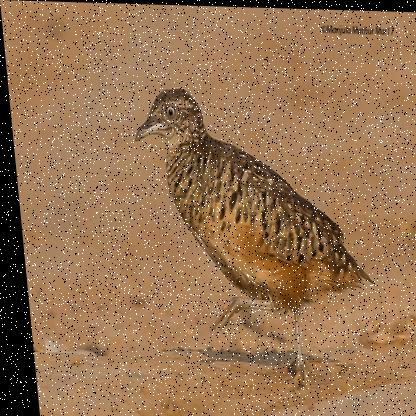Burung: (127, 85, 378, 388)
